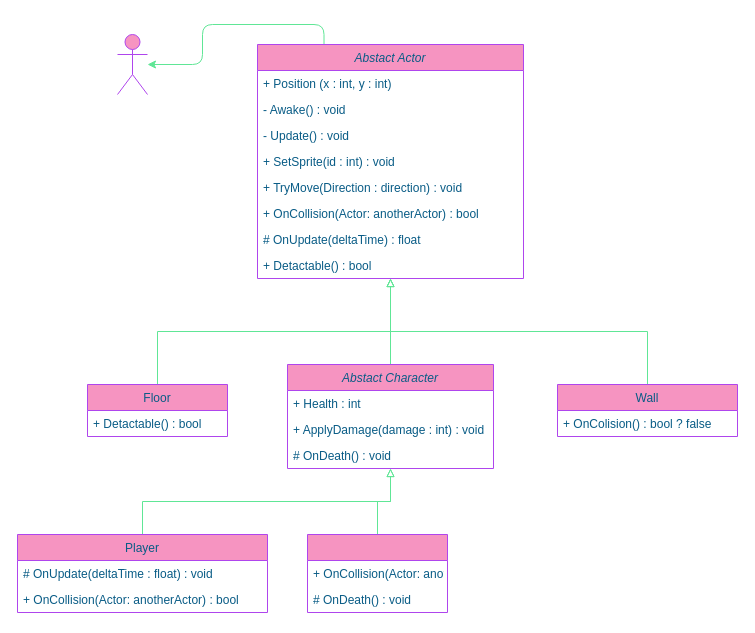
Image size: 755x633. Some labels were removed from this diagram. The shapes that lost their labels are listed below. From the top down, each one's box as (x1, y1, x2, y2) in pixels, then its label:
(116, 34, 148, 94): Actor
(306, 534, 448, 612): Skeleton
